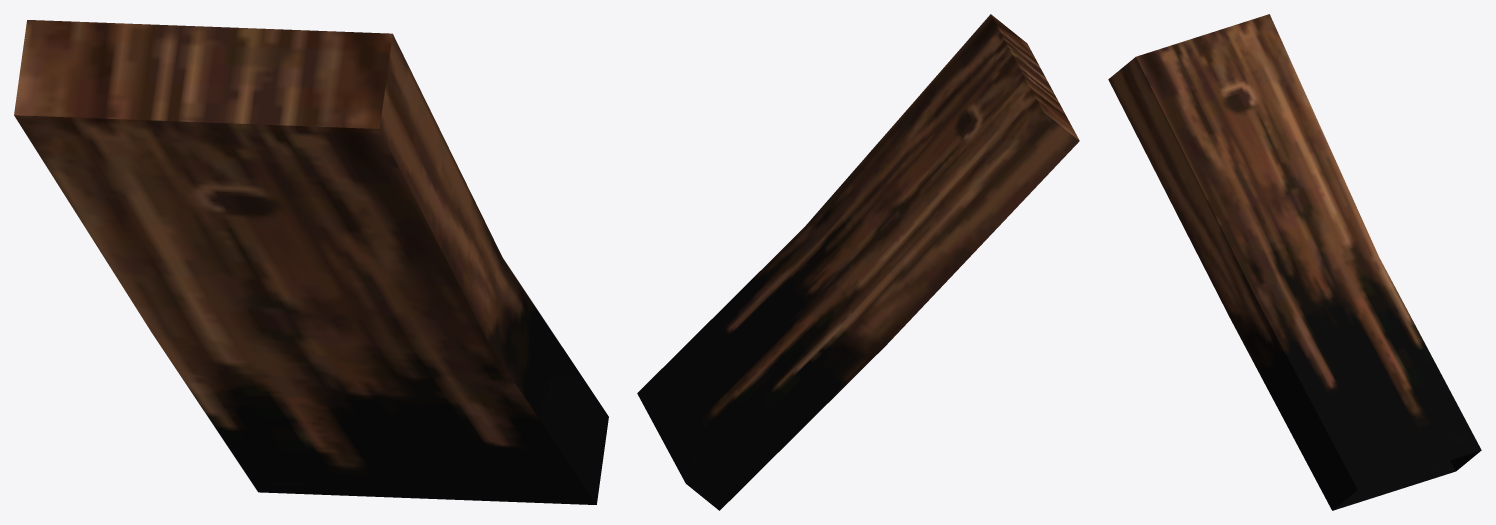
File: OVERHILL_A_01_BROKEN_BOARD_04.fbx
The picture shows the model from 3 angles, left to right: view 1: azimuth 30°, elevation 25°; view 2: azimuth 150°, elevation 25°; view 3: azimuth 270°, elevation 25°; orthographic projection. The views are drawn at different scales.
Visible parts, largest first — view 1: OVERHILL_A_01_BROKEN_BOARD_04; view 2: OVERHILL_A_01_BROKEN_BOARD_04; view 3: OVERHILL_A_01_BROKEN_BOARD_04.
Boxes of the visible parts, box(x1,y1,x2,y2) form: OVERHILL_A_01_BROKEN_BOARD_04: box(14, 20, 608, 504); OVERHILL_A_01_BROKEN_BOARD_04: box(637, 14, 1079, 510); OVERHILL_A_01_BROKEN_BOARD_04: box(1108, 14, 1481, 510).
Size of the model in its own units: 7607 by 7555 by 6924.
Materials: 1 (1 with a texture image).
